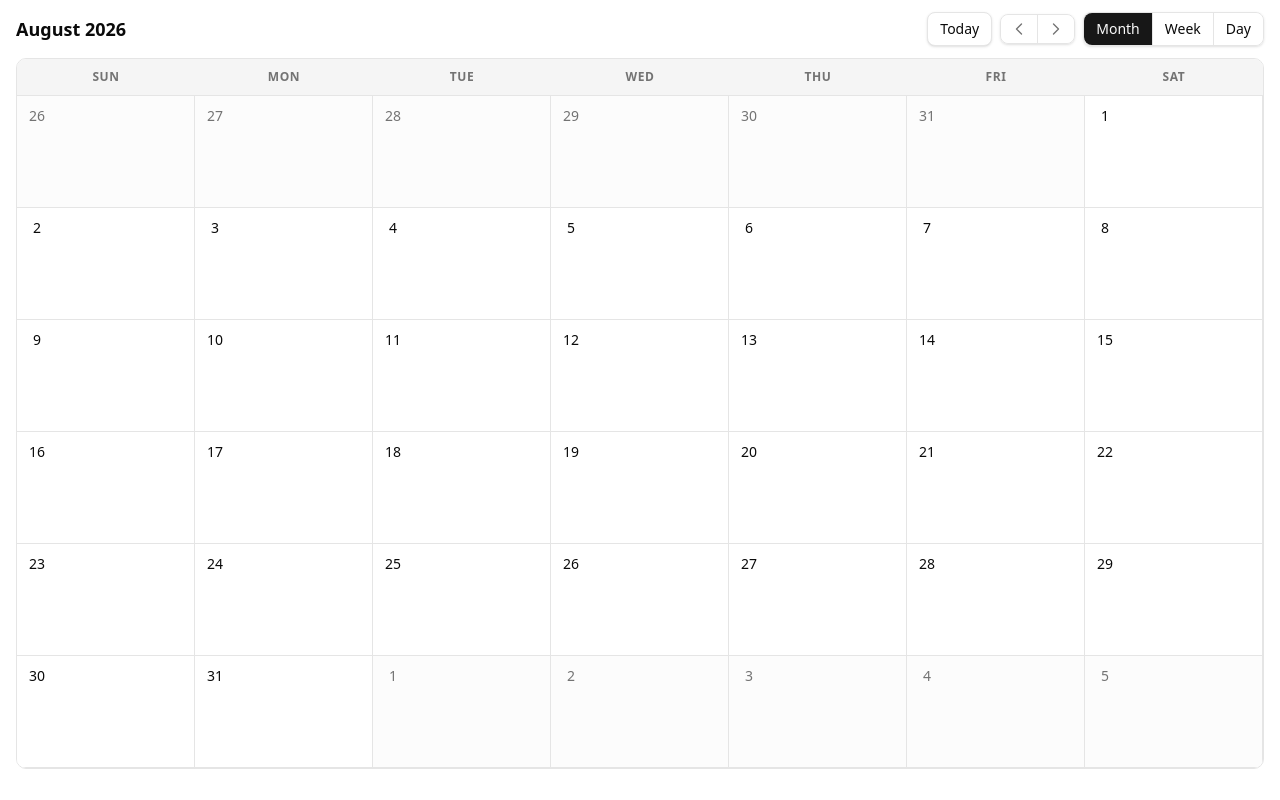
Test: MonthView keyboard navigation › keeps a single tab stop after navigating to a month with fewer weeks
The image size is (1280, 800).
Click the button named "Next" at (1056,29), box [1037, 15, 1074, 43]
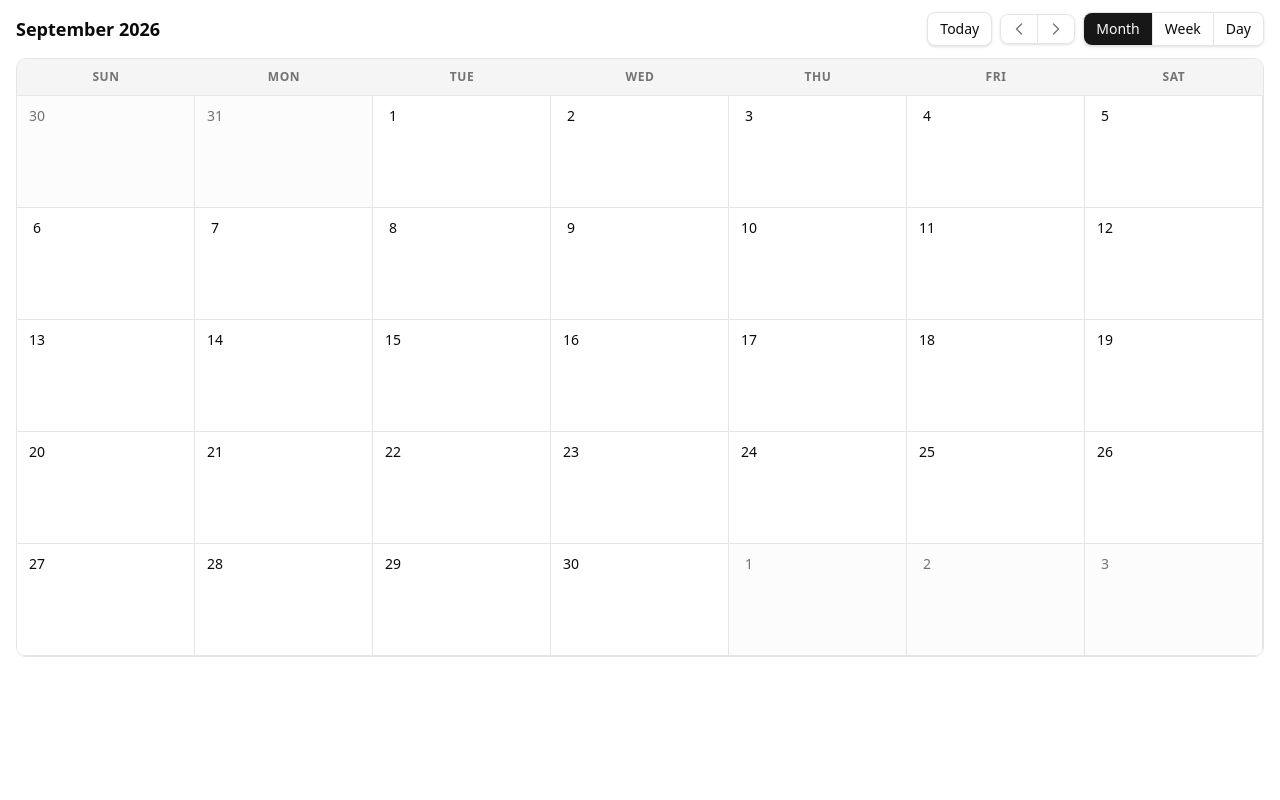
Now the number of cells is 35
